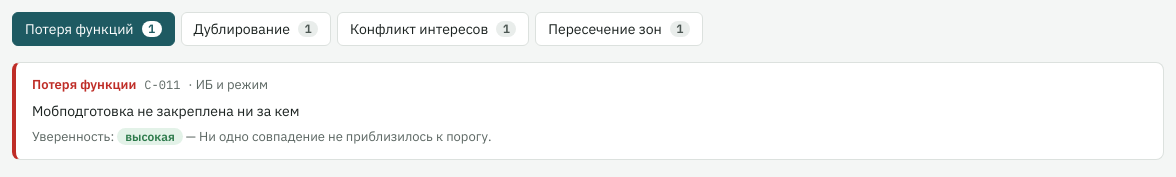
Test: AnalysisView › sorts every problem finding of the demo into its sub-page and leaves the rest out
The image size is (1176, 177).
Click the tab "Потеря функций 1". click: (93, 29)
box: [12,12,175,46]
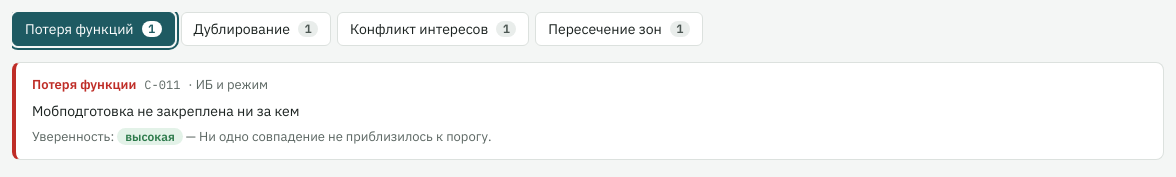
Expected: the button "C-011" is shown, [12,62,1164,160]
Click the tab "Дублирование 1". click: (256, 29)
box: [181,12,331,46]
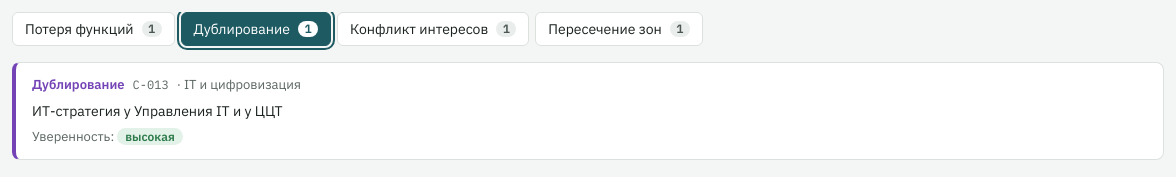
Result: the button "C-013" is shown at [12,62,1164,160]
Click the tab "Конфликт интересов 1". click: (433, 29)
box: [337,12,529,46]
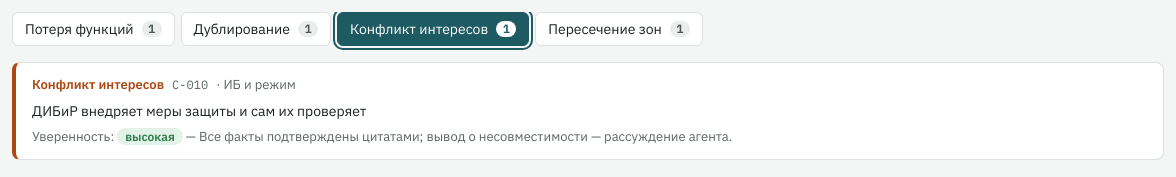
Result: the button "C-010" is shown at [12,62,1164,160]
Click the tab "Пересечение зон 1". click: (619, 29)
box: [535,12,703,46]
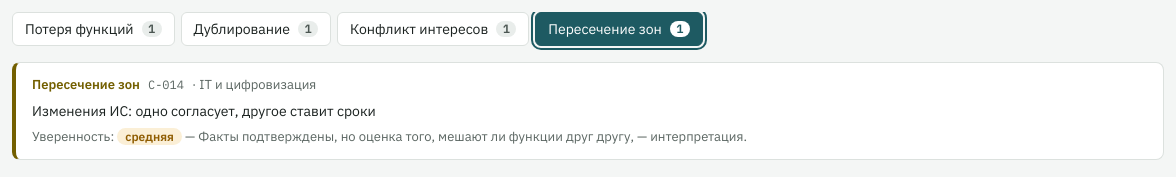
Result: the button "C-014" is shown at [12,62,1164,160]
